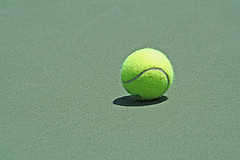tennis ball: (119, 46, 174, 102)
